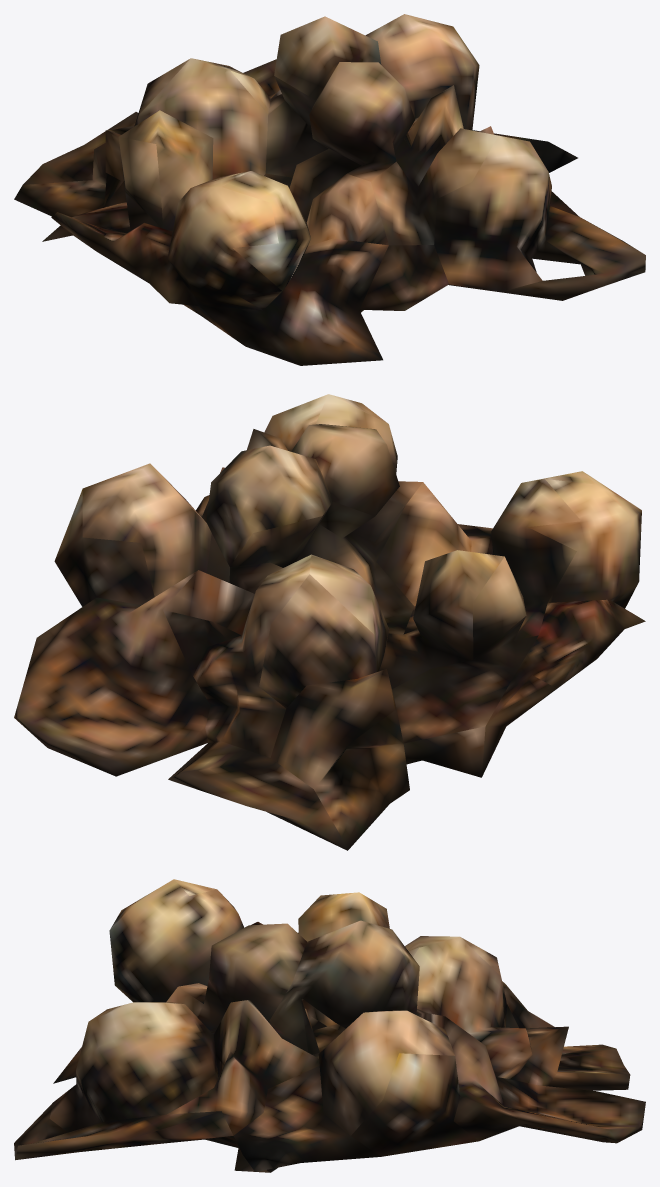
File: Bones.fbx
3 views of the same model, one above another, from view 1: azimuth 30°, elevation 25°; view 2: azimuth 150°, elevation 25°; view 3: azimuth 270°, elevation 25° (orthographic). The views are drawn at different scales.
Parts seen in each view (by area): view 1: meshes[0]; view 2: meshes[0]; view 3: meshes[0].
Boxes of the visible parts, x1,y1,x2,y2 form: meshes[0]: (14, 14, 645, 365); meshes[0]: (14, 394, 645, 850); meshes[0]: (14, 879, 645, 1172).
Bounding box in the file's own units: 12.35 × 5.65 × 14.31.
Materials: 1 (1 with a texture image).
